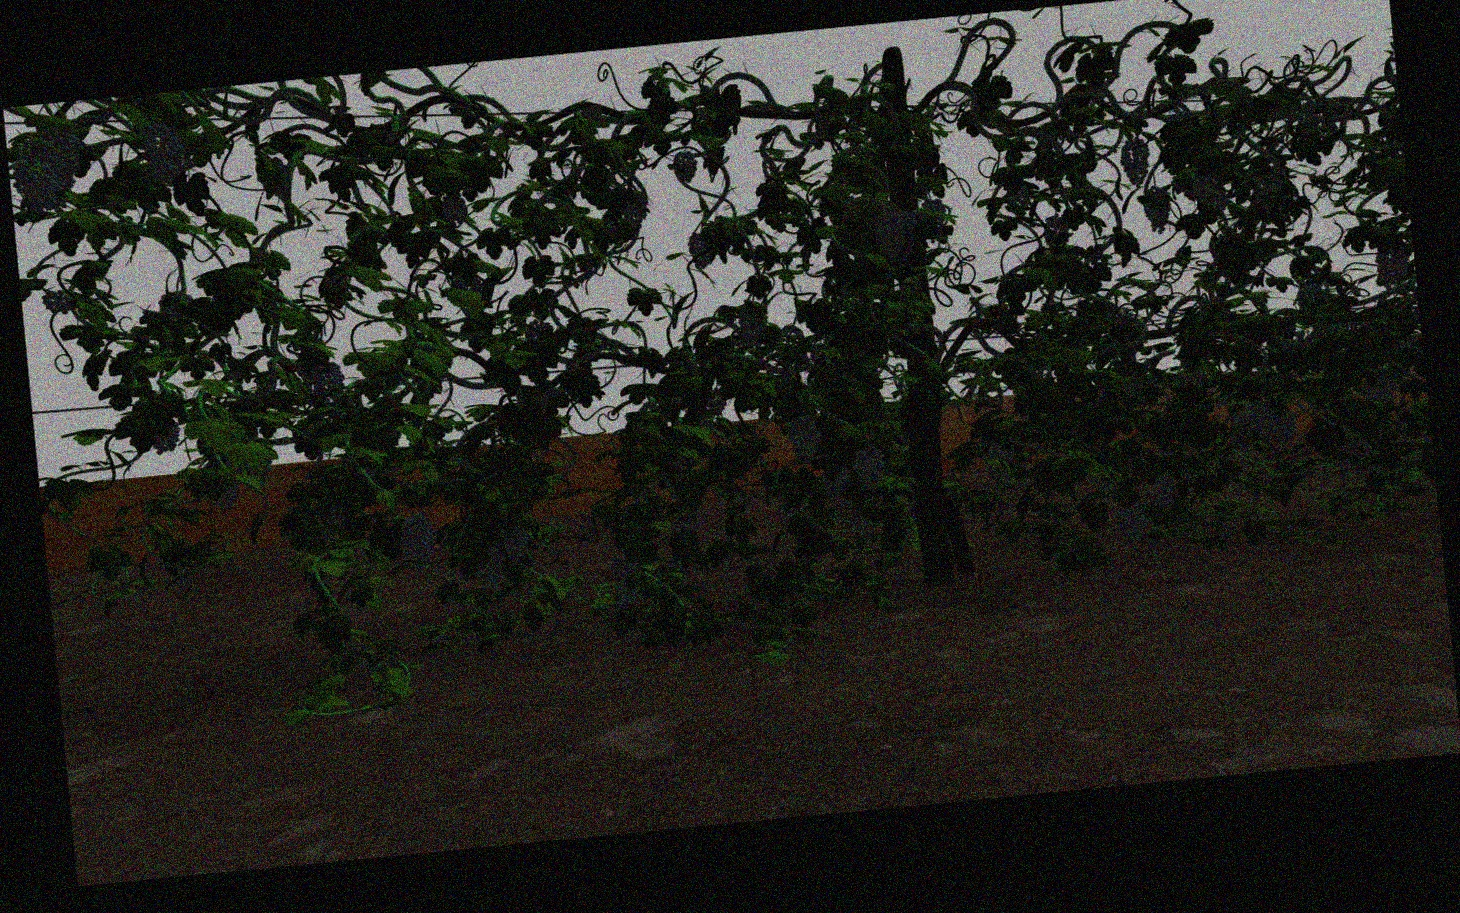grape: (14, 154, 58, 220), (144, 120, 186, 187), (40, 126, 83, 189), (399, 511, 435, 569), (609, 554, 643, 614), (311, 362, 347, 406), (788, 415, 820, 464), (874, 214, 907, 262), (854, 443, 886, 492), (1119, 138, 1151, 187), (1116, 501, 1148, 549), (1142, 186, 1174, 234), (824, 465, 853, 515), (1376, 246, 1410, 290), (984, 440, 1013, 490), (476, 541, 505, 590), (1192, 173, 1226, 212), (737, 305, 769, 348), (687, 232, 715, 271), (150, 420, 181, 455), (1250, 399, 1276, 440), (1150, 474, 1178, 511), (1364, 374, 1398, 404), (440, 194, 468, 226), (1230, 413, 1253, 453), (502, 526, 529, 560), (672, 150, 699, 184), (41, 287, 70, 317), (1275, 408, 1297, 442), (1344, 437, 1373, 461), (851, 515, 874, 539)
